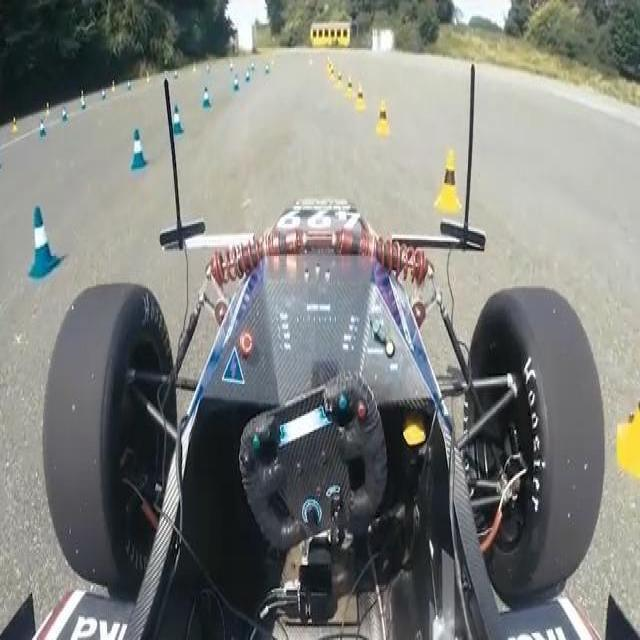blue_cone: (25, 204, 58, 278), (125, 126, 146, 172), (168, 102, 184, 138), (201, 87, 213, 111), (37, 118, 47, 140), (60, 105, 69, 126), (232, 76, 239, 95), (80, 96, 86, 115), (245, 68, 251, 84), (100, 90, 106, 104), (127, 78, 132, 91)
yellow_cone: (615, 361, 640, 482), (431, 142, 461, 215), (375, 100, 392, 140), (355, 84, 367, 112), (344, 75, 355, 99), (335, 69, 344, 89), (12, 118, 18, 138), (80, 87, 86, 104), (330, 66, 336, 82), (45, 100, 49, 120), (110, 80, 116, 92), (146, 71, 150, 85)
